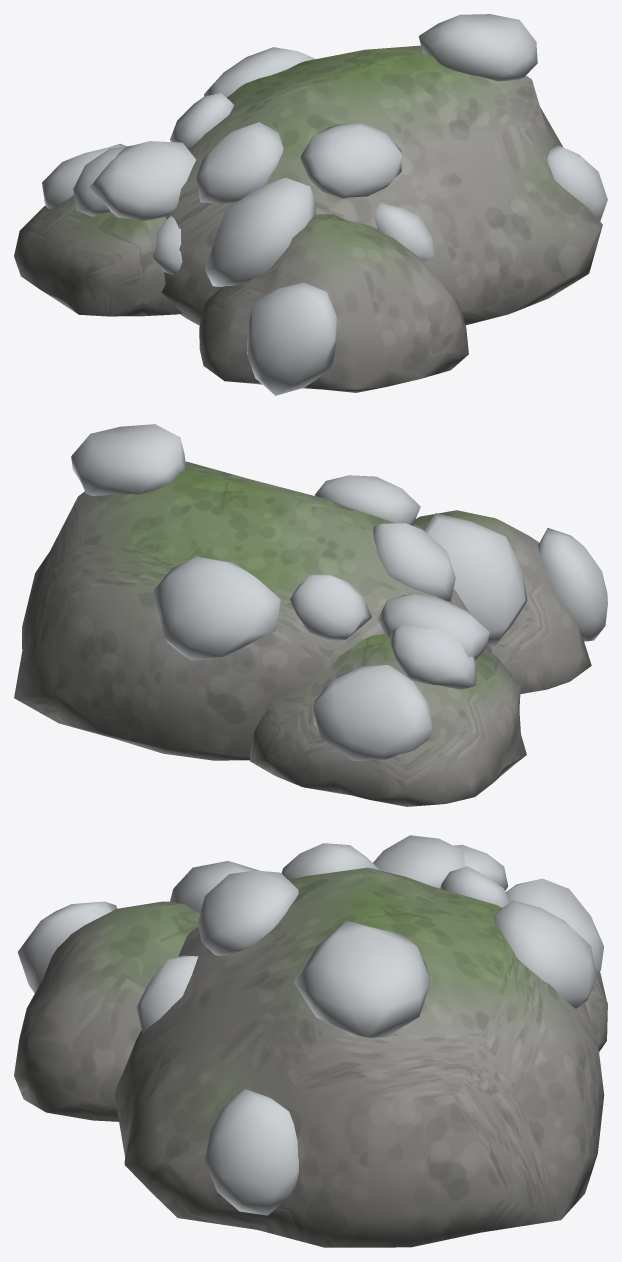
The model's file is ore_tin_cluster.glb.
The picture shows the model from 3 angles, top to bottom: view 1: azimuth 30°, elevation 25°; view 2: azimuth 150°, elevation 25°; view 3: azimuth 270°, elevation 25°; orthographic projection. The views are drawn at different scales.
Parts seen in each view (by area): view 1: ore_tin_stone, ore_tin; view 2: ore_tin_stone, ore_tin; view 3: ore_tin_stone, ore_tin.
Part boxes in pixels (box(x1,y1,x2,y2)): ore_tin_stone: box(14, 45, 602, 392); ore_tin: box(42, 14, 607, 395); ore_tin_stone: box(14, 461, 591, 806); ore_tin: box(71, 424, 607, 760); ore_tin_stone: box(14, 867, 607, 1247); ore_tin: box(17, 835, 603, 1215).
Bounding box in the file's own units: 1.92 × 0.8487 × 1.67.
2 materials, 1 textured.
